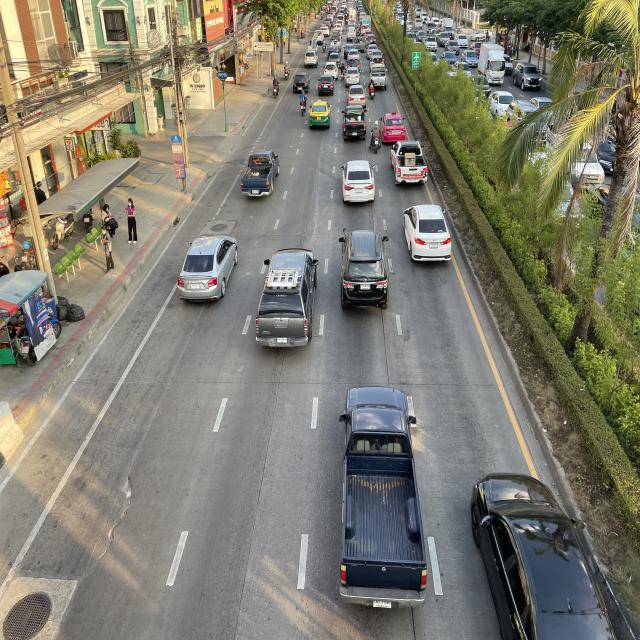bike: (368, 119, 382, 156), (299, 88, 307, 116), (272, 75, 280, 99), (368, 77, 376, 99), (283, 60, 291, 80), (340, 62, 346, 81)
car: (470, 467, 611, 640), (336, 379, 427, 612), (254, 244, 320, 351), (177, 233, 240, 306), (337, 225, 389, 311), (401, 201, 454, 266), (240, 147, 282, 200), (389, 136, 428, 186), (341, 156, 376, 210), (342, 105, 368, 141), (379, 110, 406, 144), (308, 98, 332, 130)
